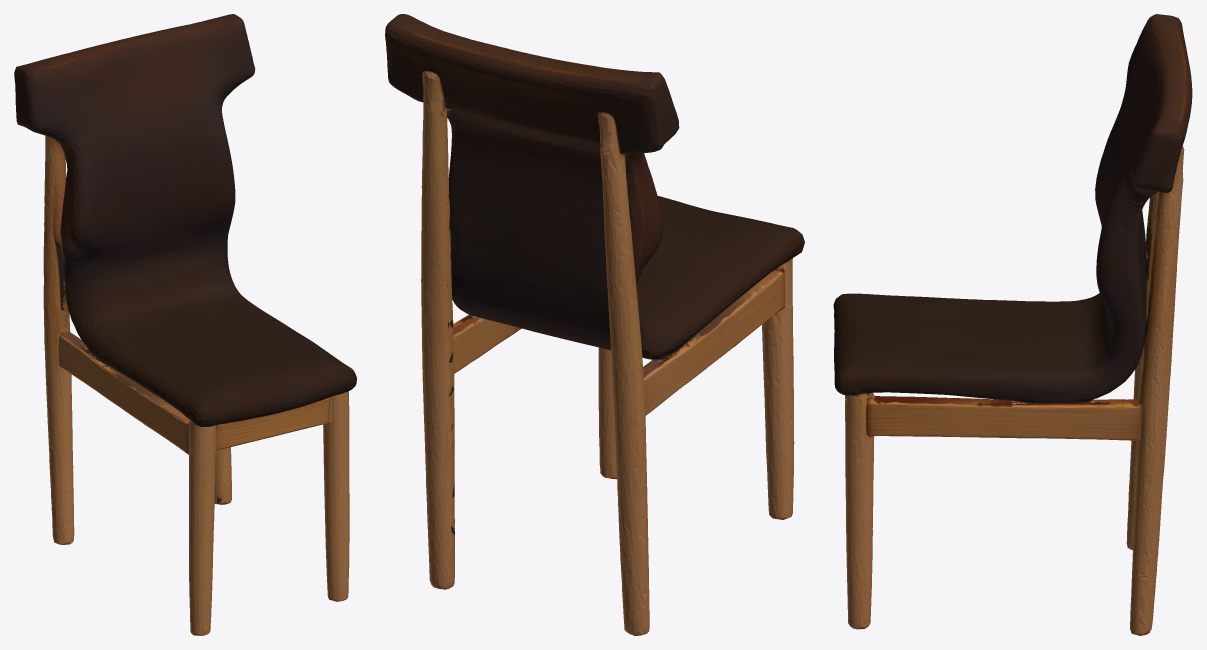
Rendered from hunyuan3d_textured.obj.
3 views of the same model, side by side, from view 1: azimuth 30°, elevation 25°; view 2: azimuth 150°, elevation 25°; view 3: azimuth 270°, elevation 25° (orthographic). The views are drawn at different scales.
Parts seen in each view (by area): view 1: hunyuan3d_textured; view 2: hunyuan3d_textured; view 3: hunyuan3d_textured.
Boxes of the visible parts, x1,y1,x2,y2 form: hunyuan3d_textured: (14,14,356,635); hunyuan3d_textured: (385,14,804,635); hunyuan3d_textured: (833,14,1192,635).
Size of the model in its own units: 0.9941 by 1.99 by 1.24.
Materials: 1 (1 with a texture image).
